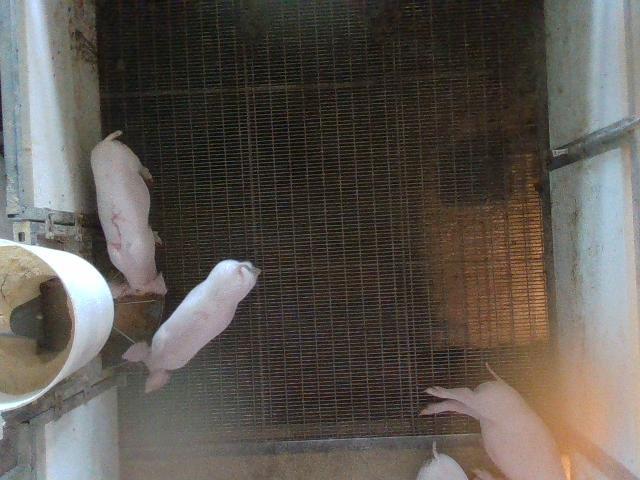pig-5: (91, 131, 166, 297)
